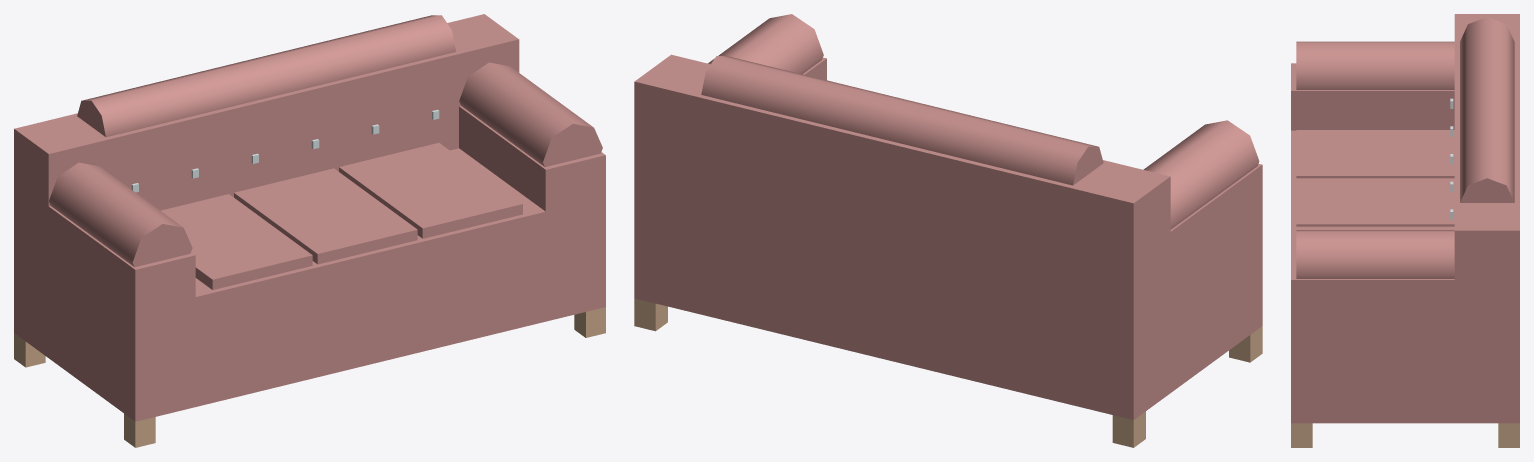
File: sofaChesterfield.glb
3 renders of one model, left to right at view 1: azimuth 30°, elevation 25°; view 2: azimuth 150°, elevation 25°; view 3: azimuth 270°, elevation 25°, orthographic. The views are drawn at different scales.
Parts seen in each view (by area): view 1: sofaChesterfield; view 2: sofaChesterfield; view 3: sofaChesterfield.
Boxes of the visible parts, x1,y1,x2,y2 form: sofaChesterfield: [14, 14, 605, 447]; sofaChesterfield: [634, 14, 1262, 447]; sofaChesterfield: [1291, 14, 1519, 447].
Bounding box in the file's own units: 0.94 × 0.49 × 0.42.
